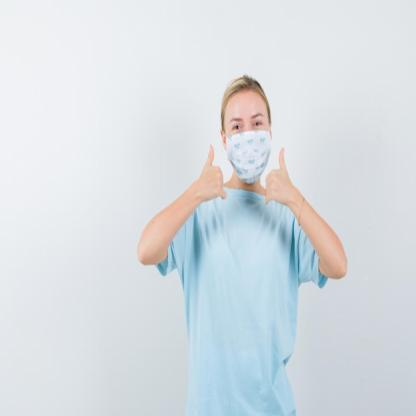thumb_up: (198, 140, 228, 204), (260, 144, 290, 206)
